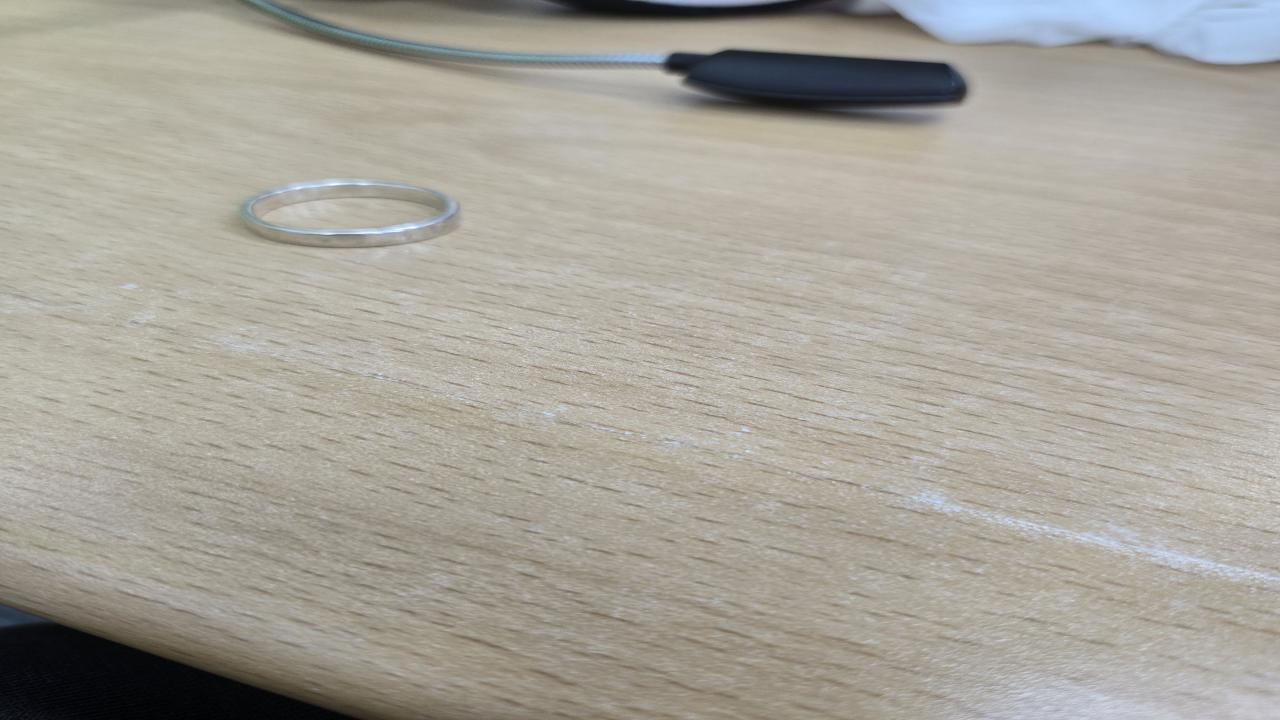ring: (236, 179, 465, 248)
